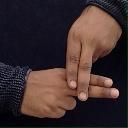hand: (64, 5, 122, 101), (19, 67, 119, 118)
